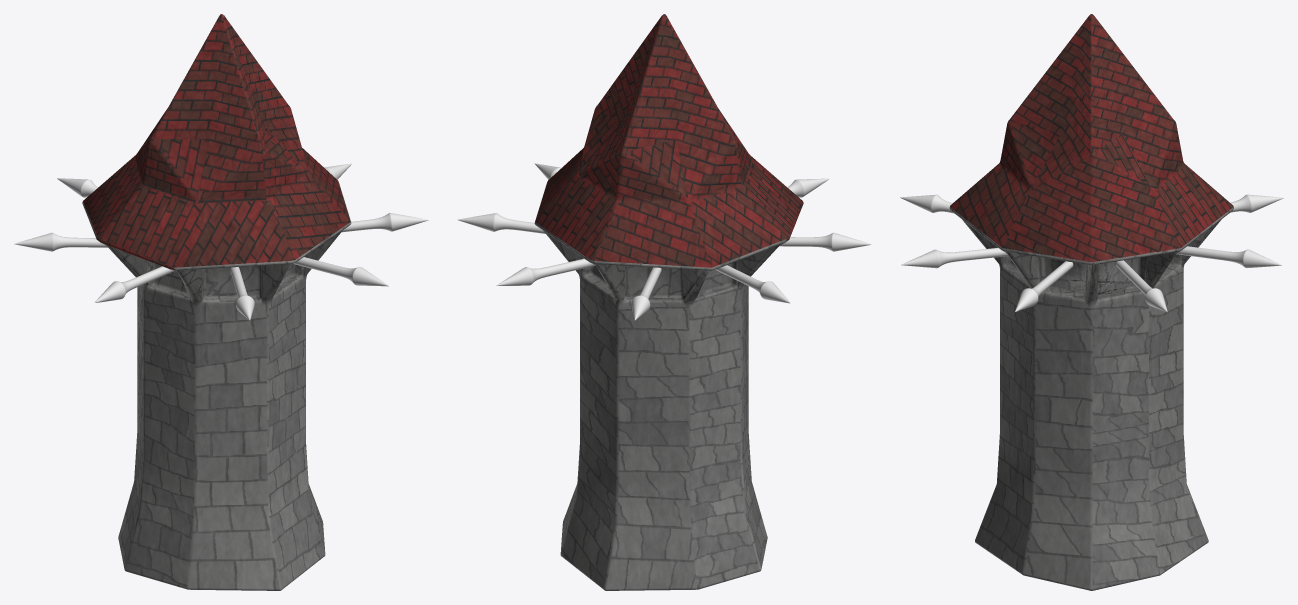
Rendered from tower2.fbx.
3 renders of one model, left to right at view 1: azimuth 30°, elevation 25°; view 2: azimuth 150°, elevation 25°; view 3: azimuth 270°, elevation 25°, orthographic.
Visible parts, largest first — view 1: Cylinder.001, Cylinder; view 2: Cylinder.001, Cylinder; view 3: Cylinder.001, Cylinder.
Part boxes in pixels (x1=…): Cylinder.001: x1=82, y1=14, x2=351, y2=590; Cylinder: x1=14, y1=163, x2=428, y2=320; Cylinder.001: x1=534, y1=14, x2=803, y2=590; Cylinder: x1=457, y1=163, x2=871, y2=320; Cylinder.001: x1=949, y1=14, x2=1233, y2=590; Cylinder: x1=900, y1=194, x2=1283, y2=312.
Bounding box in the file's own units: 592 × 898 × 591.
